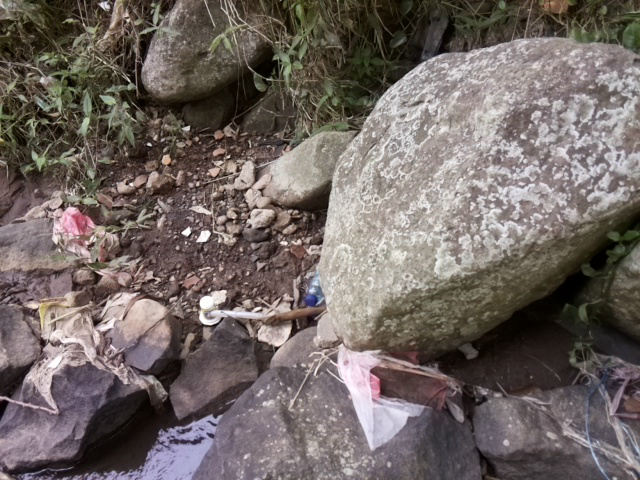Sampah_Botol_Plastik: (304, 262, 325, 308)
Sampah_Plastik: (336, 340, 454, 448), (602, 355, 640, 428), (52, 207, 101, 258)
Sampah_Styrofoam: (195, 295, 223, 324)
